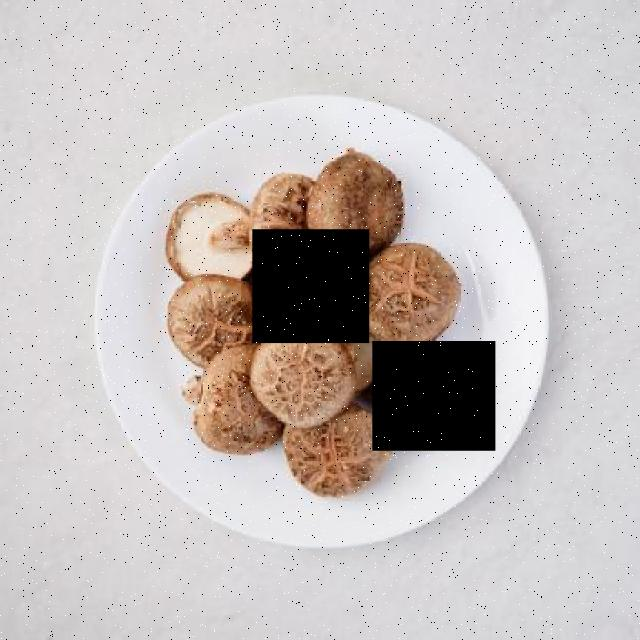Mushroom: (373, 341, 496, 452), (253, 229, 369, 343)
